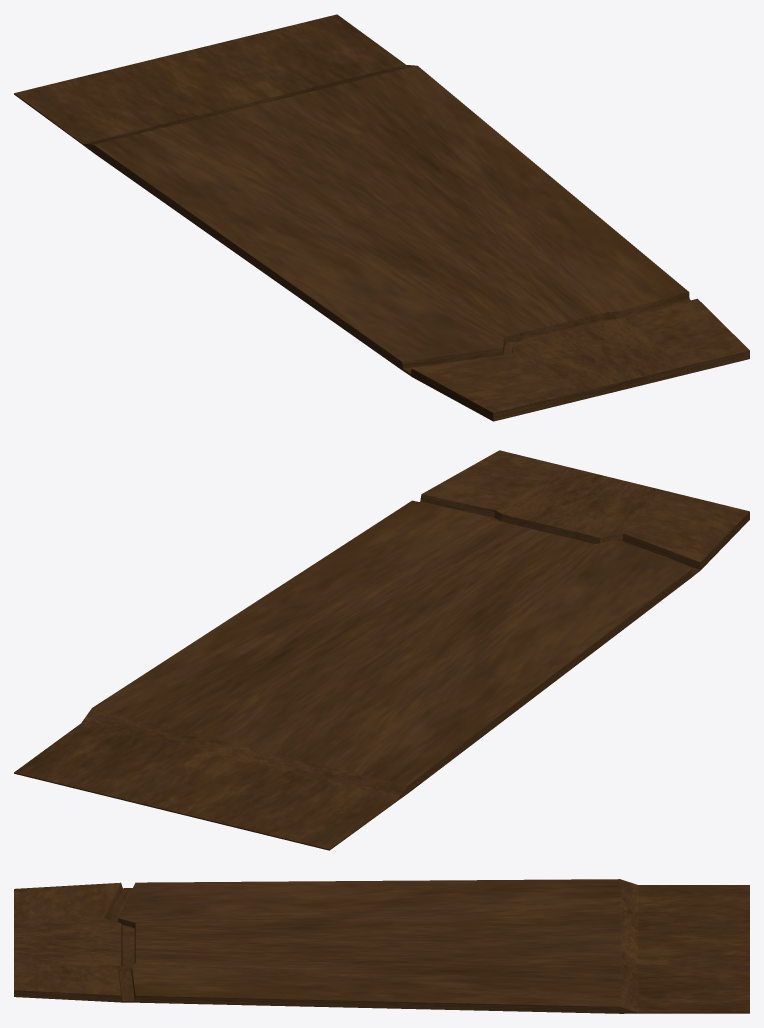
File: trench_1.glb
3 renders of one model, top to bottom at view 1: azimuth 30°, elevation 25°; view 2: azimuth 150°, elevation 25°; view 3: azimuth 270°, elevation 25°, orthographic. The views are drawn at different scales.
Visible parts, largest first — view 1: Cube; view 2: Cube; view 3: Cube.
Boxes of the visible parts, x1,y1,x2,y2 form: Cube: (14,14,749,421); Cube: (14,450,749,850); Cube: (14,879,749,1013).
Bounding box in the file's own units: 100 × 2.53 × 244.
Materials: 1 (1 with a texture image).
